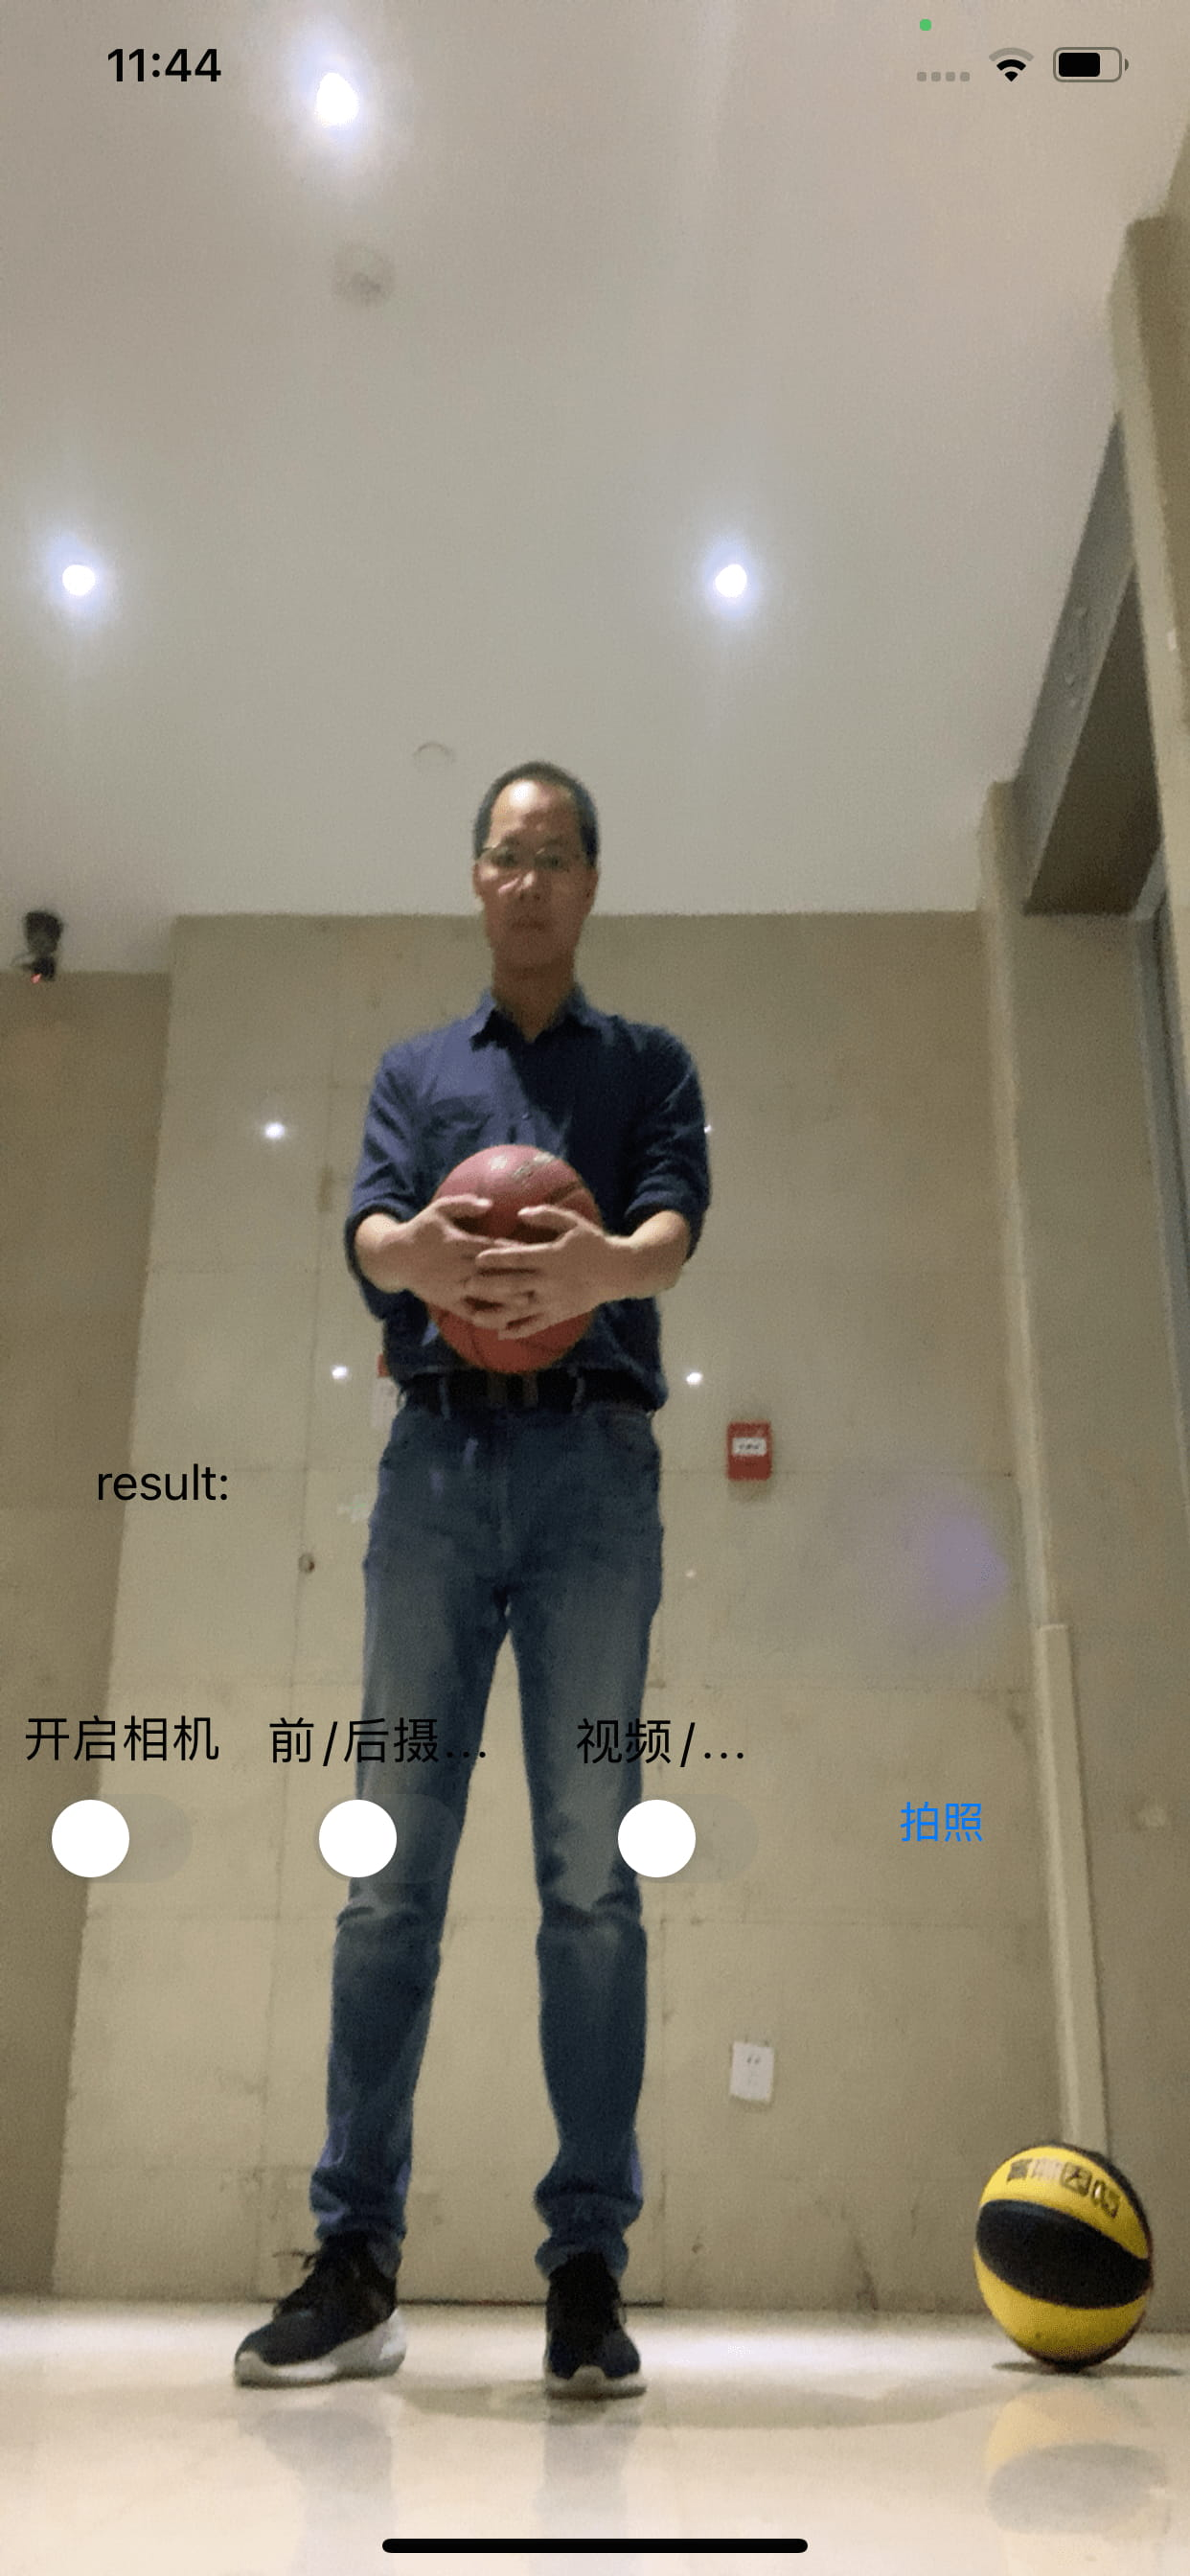ball: (417, 1145, 608, 1370), (973, 2146, 1152, 2377)
